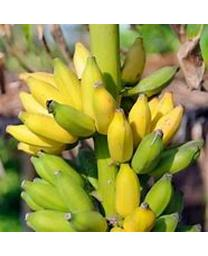banana: (4, 26, 207, 228)
